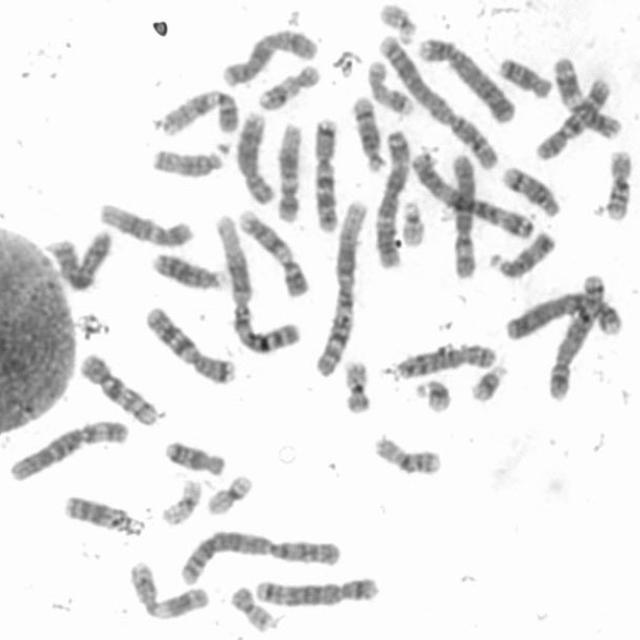A1: (216, 215, 300, 354), (316, 200, 368, 377)
A2: (378, 34, 499, 170), (180, 530, 339, 584)
A3: (410, 150, 534, 240), (375, 130, 411, 269)
B4: (418, 38, 516, 123), (506, 290, 622, 340)
B5: (550, 274, 605, 399), (255, 577, 379, 606)
C10: (534, 78, 610, 160), (79, 354, 158, 426)
C11: (552, 56, 622, 140), (130, 563, 210, 619)
C12: (100, 204, 193, 246), (276, 125, 302, 222)
C6: (10, 421, 128, 481), (451, 154, 476, 277)
C7: (144, 306, 236, 384), (312, 119, 337, 232)
C8: (397, 342, 498, 380), (237, 111, 275, 205)
C9: (238, 208, 308, 297), (161, 88, 240, 136)
D13: (65, 496, 145, 537), (153, 253, 232, 290)
D14: (500, 166, 560, 217), (352, 96, 386, 172)
D15: (488, 230, 556, 278), (153, 140, 235, 178)
E16: (375, 438, 439, 474), (606, 150, 632, 220)
E17: (258, 65, 320, 112), (368, 60, 414, 114)
E18: (164, 440, 224, 476), (499, 58, 552, 97)
F19: (206, 474, 252, 515), (162, 480, 202, 526)
F20: (230, 586, 274, 632), (344, 362, 370, 413)
G21: (471, 366, 508, 402), (415, 378, 452, 412)
G22: (379, 3, 417, 46), (401, 200, 425, 247)
X: (222, 29, 320, 88), (44, 230, 114, 291)
